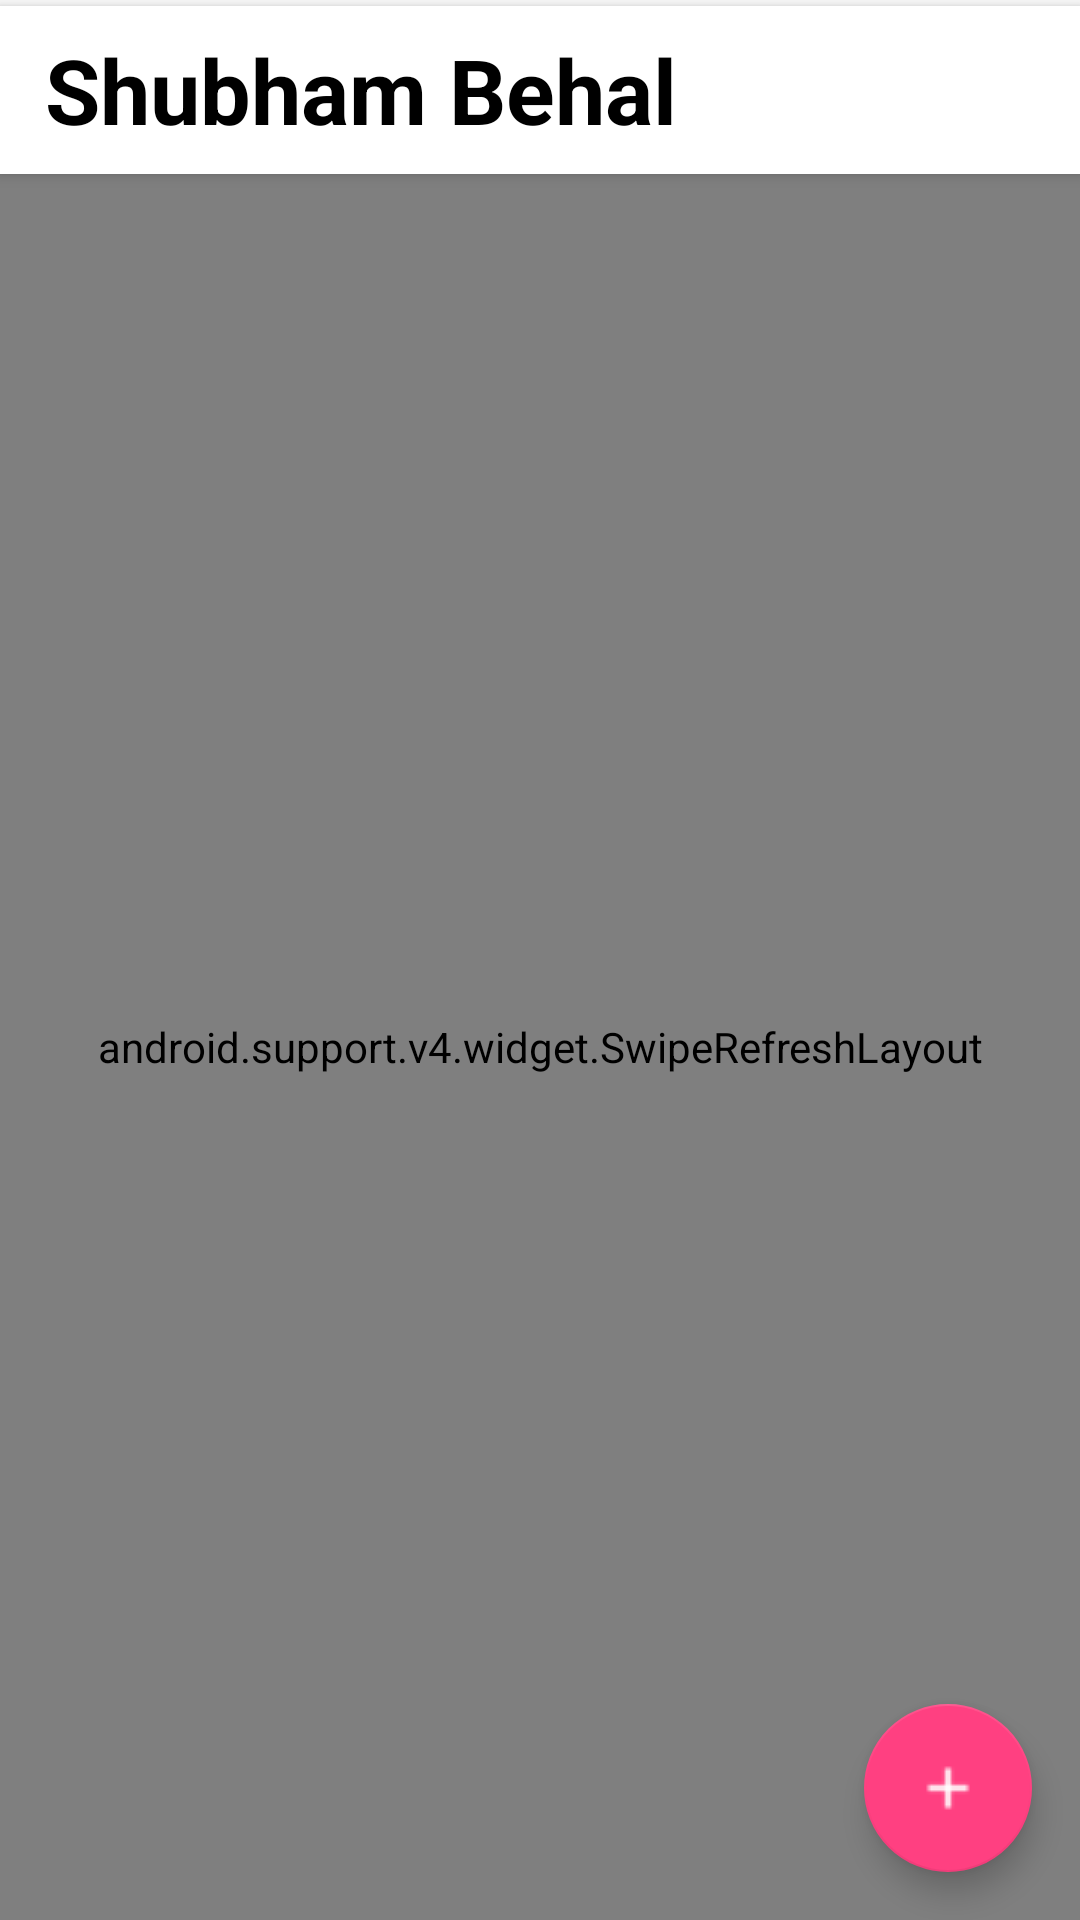

Screen size 1080×1920. Icon name, then its box in pixels as (x1, y1, x2, y2):
floating action: (864, 1704, 1032, 1872)
